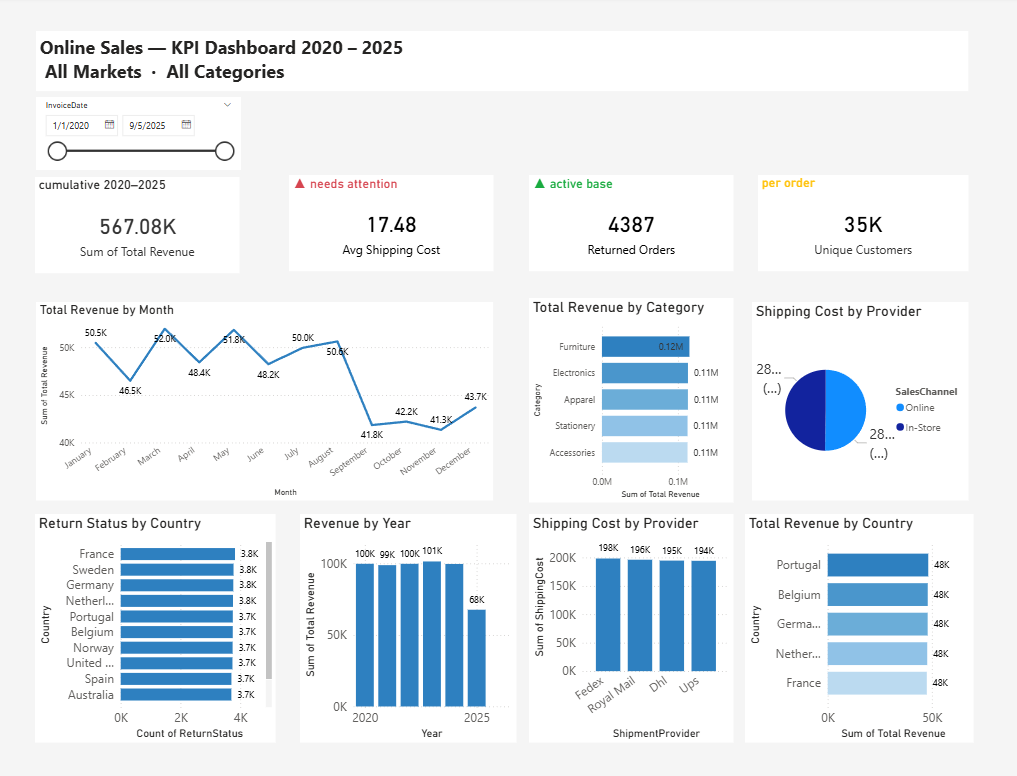

The page's visual inventory and layout, read from the dashboard file:
{"tool":"powerbi","page":{"name":"Sales","canvas":[1680,1080],"ordinal":0},"visuals":[{"type":"card","title":"cumulative 2020–2025","fields":{"Values":["Sum(online_sales_dataset.Total Revenue)"]},"box":[176,240,272,128],"z":0},{"type":"columnChart","title":"Revenue by Year","fields":{"Y":["Sum(online_sales_dataset.TotalSales)","Sum(online_sales_dataset.TotalSales)"],"Category":["online_sales_dataset.InvoiceDate.Variation.Date Hierarchy.Year"]},"box":[528,688,288,304],"z":1000},{"type":"barChart","title":"Total Revenue by Category","fields":{"Category":["online_sales_dataset.Category"],"Y":["Sum(online_sales_dataset.Total Revenue)","select"]},"box":[832,400,272,272],"z":2000},{"type":"lineChart","title":"Total Revenue by Month","fields":{"Y":["Sum(online_sales_dataset.TotalSales)"],"Category":["online_sales_dataset.InvoiceDate.Variation.Date Hierarchy.Month"]},"box":[177.1,405.1,608,264],"z":3000},{"type":"barChart","title":"Total Revenue by Country","fields":{"Category":["online_sales_dataset.Country"],"Y":["Sum(online_sales_dataset.TotalSales)","Sum(online_sales_dataset.TotalSales)"]},"box":[1120,688,304,304],"z":4000},{"type":"barChart","title":"Return Status by Country","fields":{"Category":["online_sales_dataset.Country"],"Y":["CountNonNull(online_sales_dataset.ReturnStatus)"]},"box":[176,688,320,304],"z":5000},{"type":"pieChart","title":"Shipping Cost by Provider","fields":{"Y":["Sum(online_sales_dataset.TotalSales)","Sum(online_sales_dataset.TotalSales)"],"Category":["online_sales_dataset.SalesChannel"]},"box":[1129.1,405.1,288,264],"z":6000},{"type":"columnChart","title":"Shipping Cost by Provider","fields":{"Category":["online_sales_dataset.ShipmentProvider"],"Y":["Sum(online_sales_dataset.ShippingCost)"]},"box":[832,688,272,304],"z":7000},{"type":"slicer","fields":{"Values":["online_sales_dataset.InvoiceDate"]},"box":[177.1,133.1,272,96],"z":8000},{"type":"card","title":"per order","fields":{"Values":["online_sales_dataset.Unique Customers"]},"box":[1137.1,237.1,280,128],"z":9000},{"type":"card","title":"▲ active base","fields":{"Values":["online_sales_dataset.Returned Orders"]},"box":[833.1,237.1,272,128],"z":10000},{"type":"card","title":"▲ needs attention","fields":{"Values":["online_sales_dataset.Avg Shipping Cost"]},"box":[513.1,237.1,272,128],"z":11000},{"type":"textbox","box":[177.1,45.1,1240,80],"z":12000}]}

Visuals, with their boxes on the page's 1680x1080 design canvas (x1, y1, x2, y2). These are canvas units, not pixel positions in the 1017x776 screenshot, which may show the page scaled, cropped or inside an application window:
"cumulative 2020–2025" card: region(176, 240, 448, 368)
"Revenue by Year" columnChart: region(528, 688, 816, 992)
"Total Revenue by Category" barChart: region(832, 400, 1104, 672)
"Total Revenue by Month" lineChart: region(177, 405, 785, 669)
"Total Revenue by Country" barChart: region(1120, 688, 1424, 992)
"Return Status by Country" barChart: region(176, 688, 496, 992)
"Shipping Cost by Provider" pieChart: region(1129, 405, 1417, 669)
"Shipping Cost by Provider" columnChart: region(832, 688, 1104, 992)
slicer - online_sales_dataset.InvoiceDate: region(177, 133, 449, 229)
"per order" card: region(1137, 237, 1417, 365)
"▲ active base" card: region(833, 237, 1105, 365)
"▲ needs attention" card: region(513, 237, 785, 365)
textbox: region(177, 45, 1417, 125)
